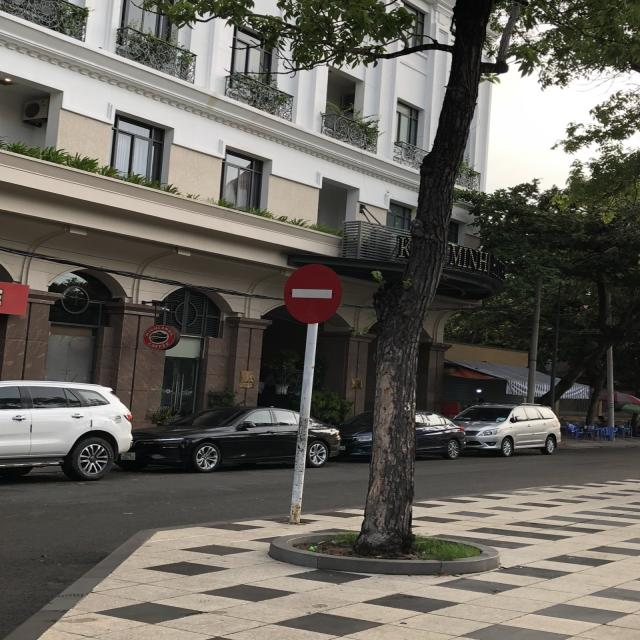Bien bao cam di nguoc chieu: (275, 259, 348, 330)
